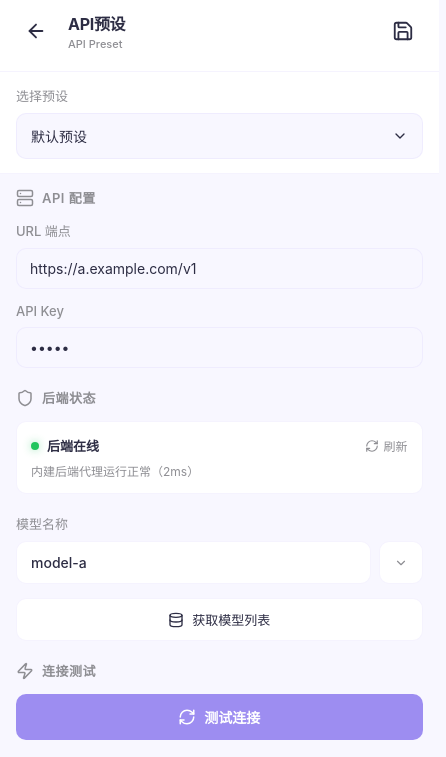
it: ApiPresetPage 预设保存与切换 › 切换预设：表单载入目标预设，并把新的选中项写给后端
The image size is (446, 757).
Expected: the field with placeholder "https://api.openai.com/v1" below "URL 端点" holds "https://a.example.com/v1", 16,248 -> 422,289
Click the button with class "selector-btn". click: click(59, 136)
box: 16,113 -> 422,159
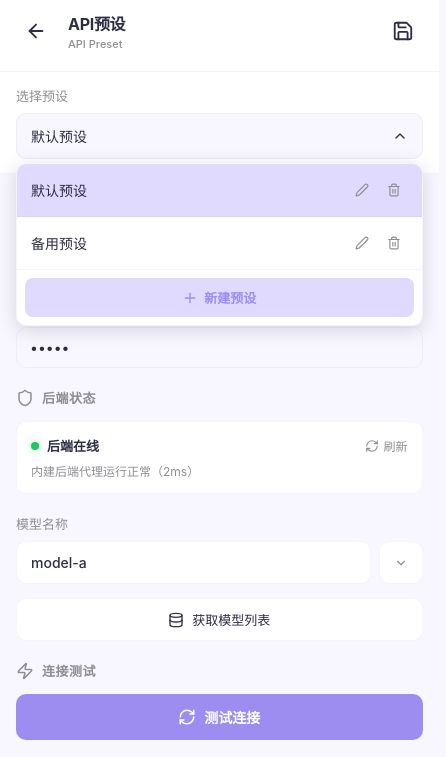
Click the element showing "备用预设". click: click(59, 244)
box: 31,229 -> 408,257
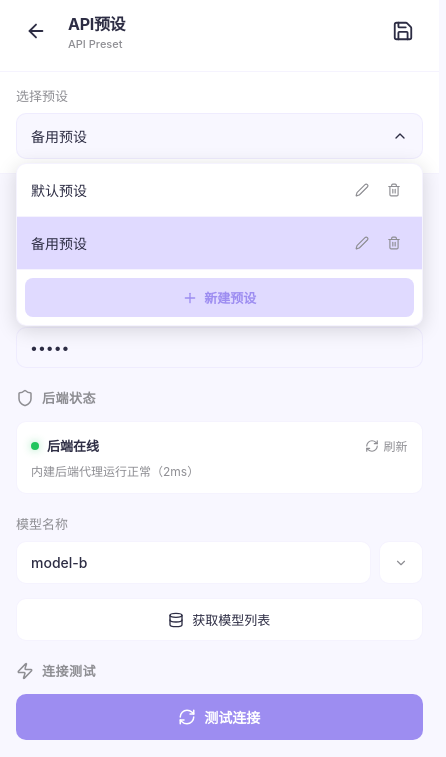
Now the field with placeholder "https://api.openai.com/v1" below "URL 端点" holds "https://b.example.com/v1", box 16,248 -> 422,289
Now the 1st text "备用预设" is shown, box 31,126 -> 87,146
